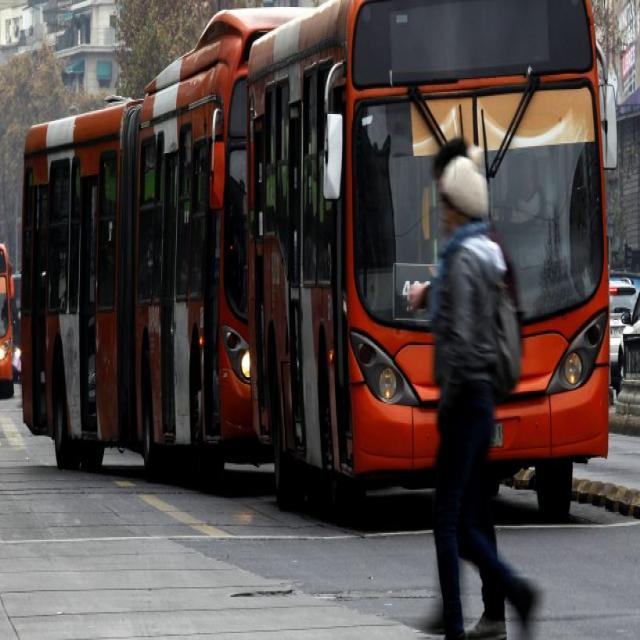AB: (14, 1, 616, 532)
